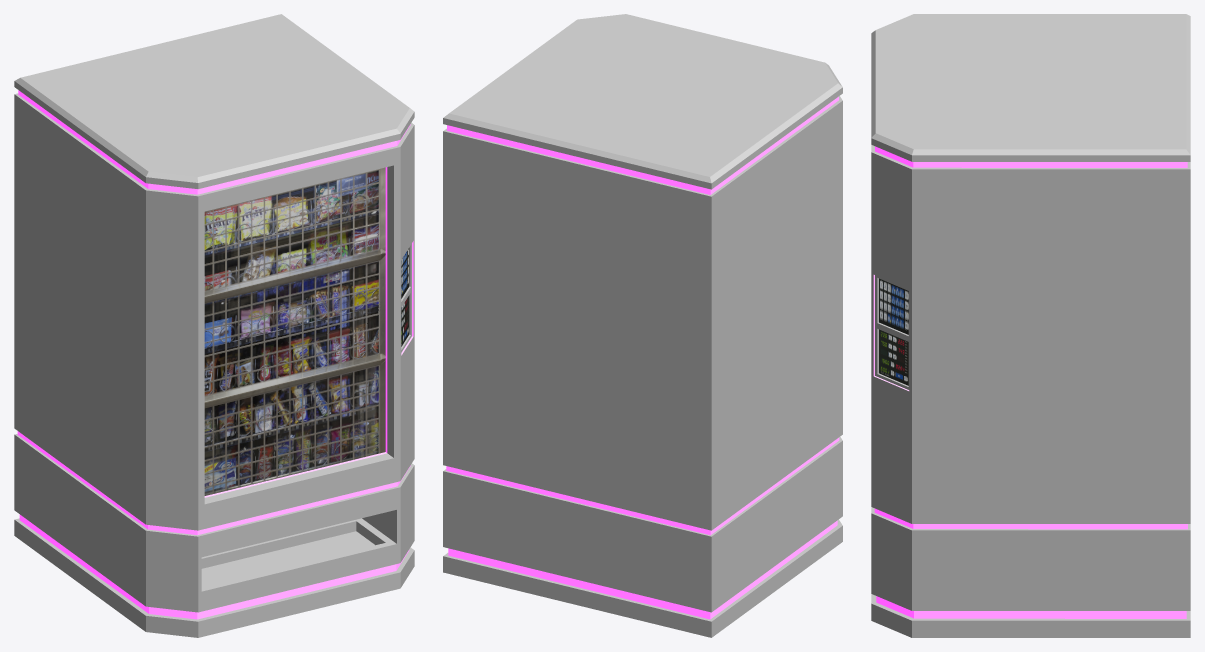
The model's file is machine.glb.
The picture shows the model from 3 angles, left to right: view 1: azimuth 30°, elevation 25°; view 2: azimuth 150°, elevation 25°; view 3: azimuth 270°, elevation 25°; orthographic projection. The views are drawn at different scales.
Visible parts, largest first — view 1: Vending machine, Vending machine.003; view 2: Vending machine; view 3: Vending machine, Vending machine.001, Vending machine.002.
Boxes of the visible parts, x1,y1,x2,y2 form: Vending machine: [14, 14, 414, 637]; Vending machine.003: [204, 167, 385, 495]; Vending machine: [443, 14, 842, 637]; Vending machine: [871, 14, 1190, 637]; Vending machine.001: [879, 329, 908, 385]; Vending machine.002: [879, 278, 908, 334].
Size of the model in its own units: 1.23 by 2 by 1.19.
Materials: 5 (2 with a texture image).
